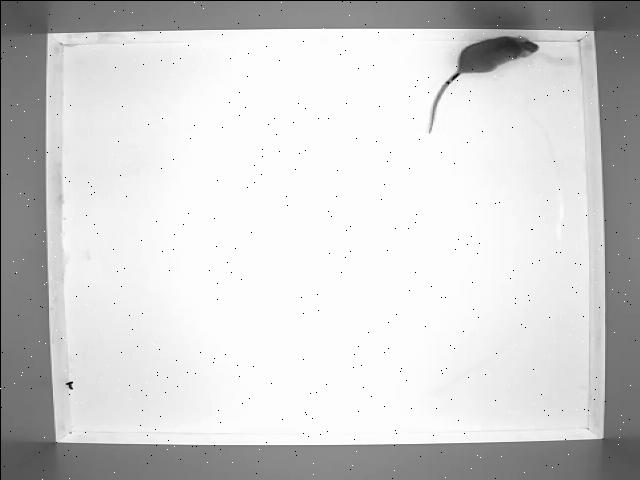Tikus: (406, 32, 540, 138)
